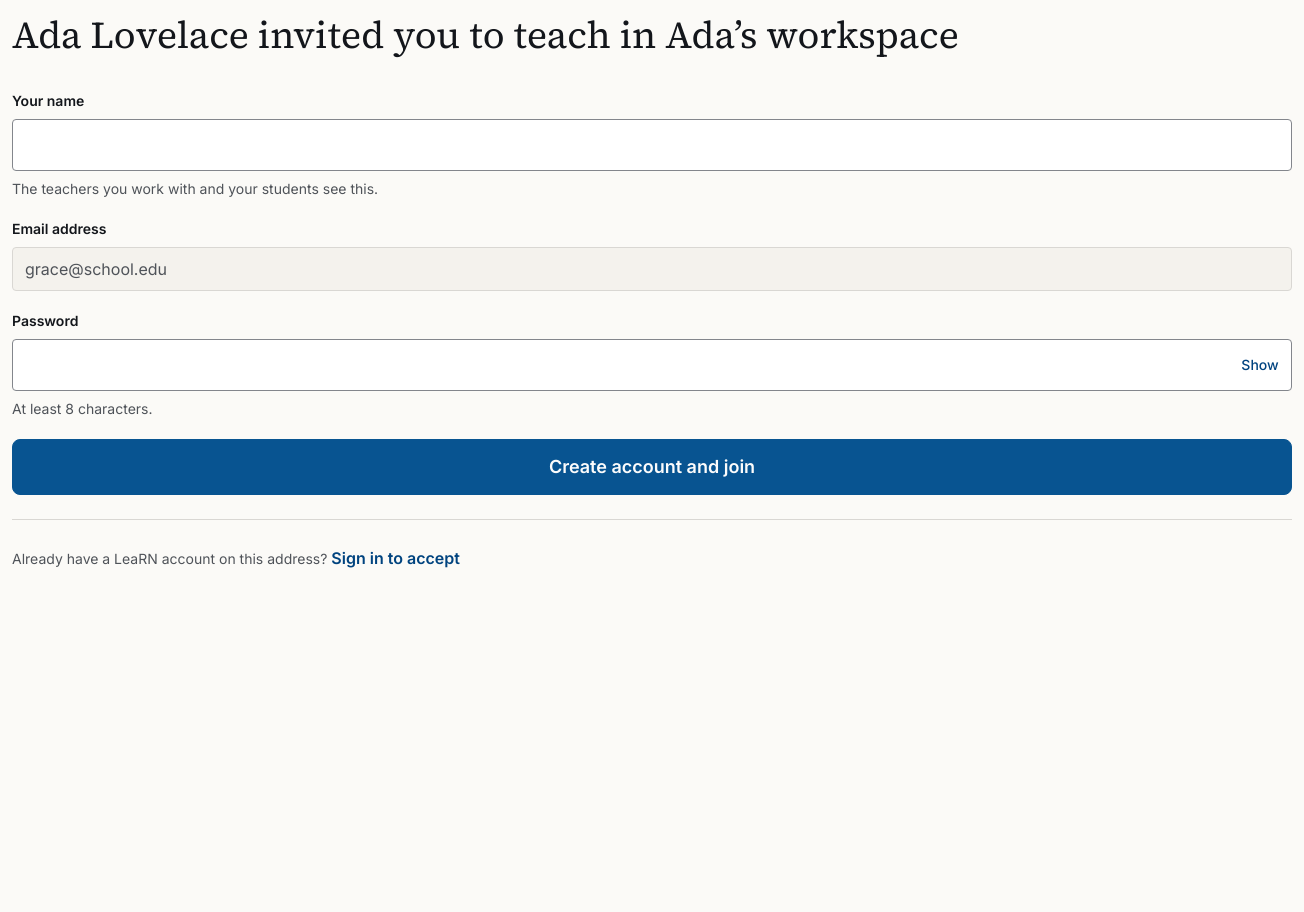
AcceptInviteForm › puts an error on the field it is about, and keeps the name typed
The width and height of the screenshot is (1304, 912).
Type "Grace Hopper" into the field labelled "Your name". click: (652, 145)
box: [12,119,1292,171]
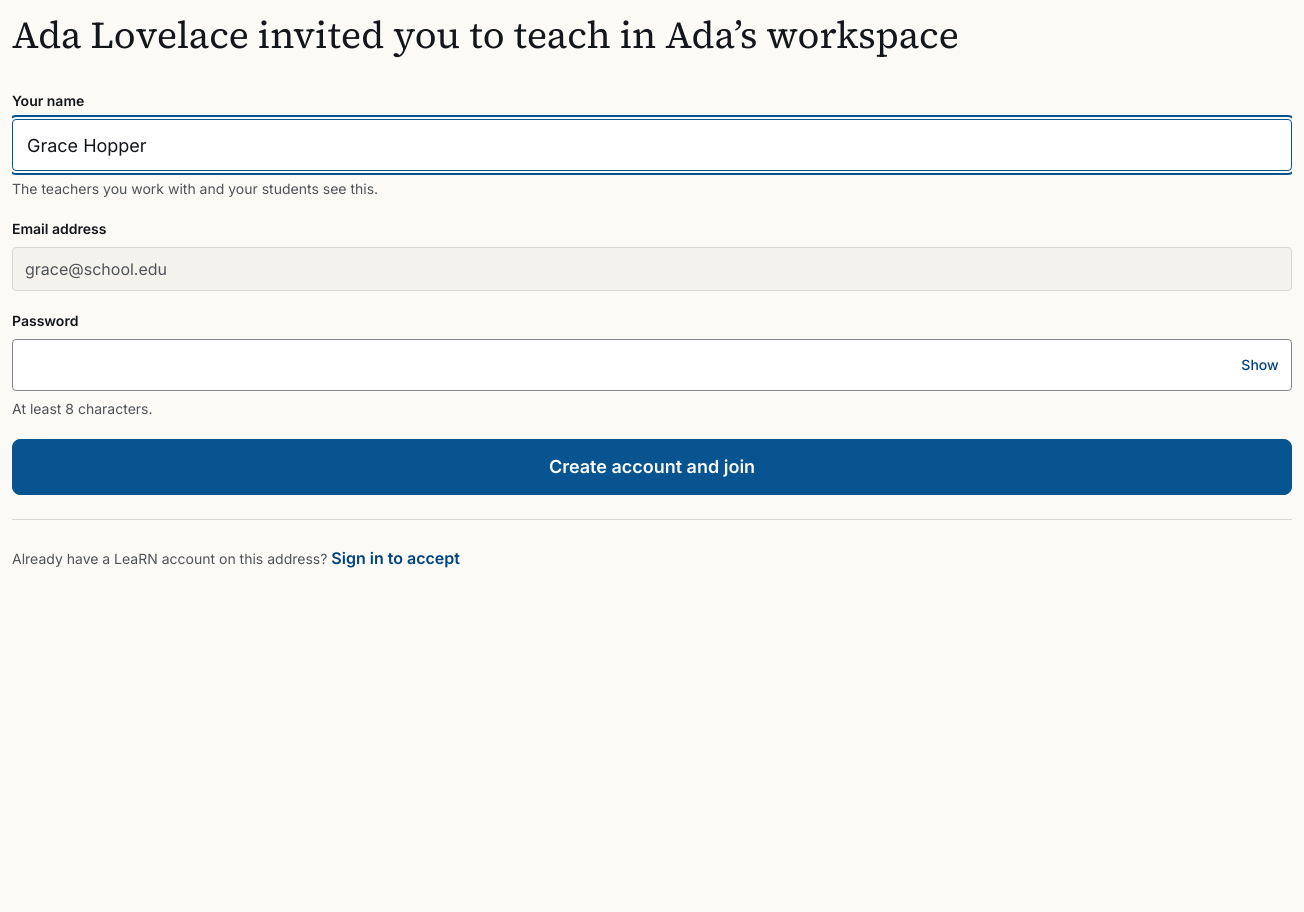
Type "correct horse battery staple" into the password field labelled "Password". click: (652, 365)
box: [12,339,1292,391]
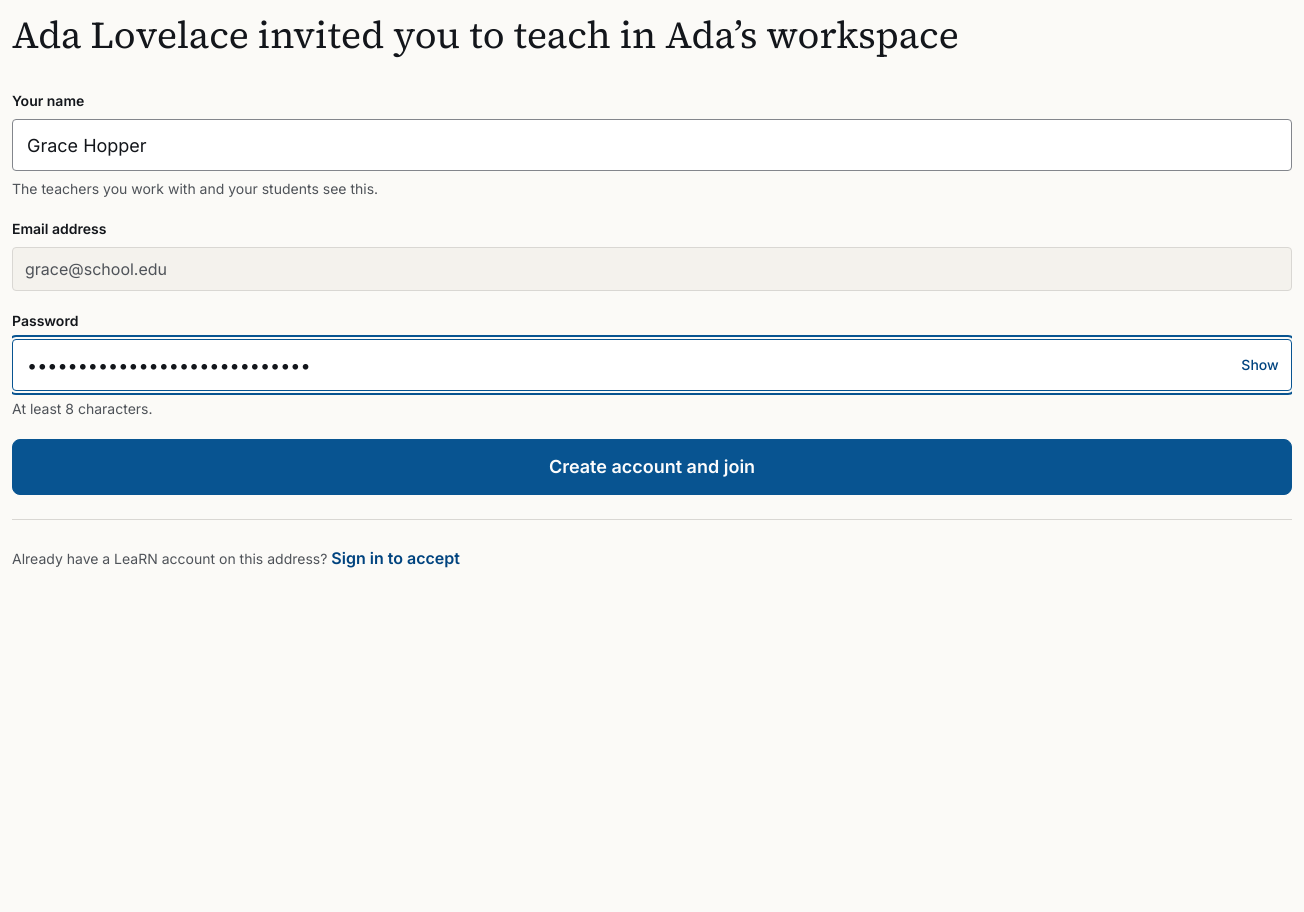
Click the button "Create account and join". click: (652, 467)
box: [12,439,1292,495]
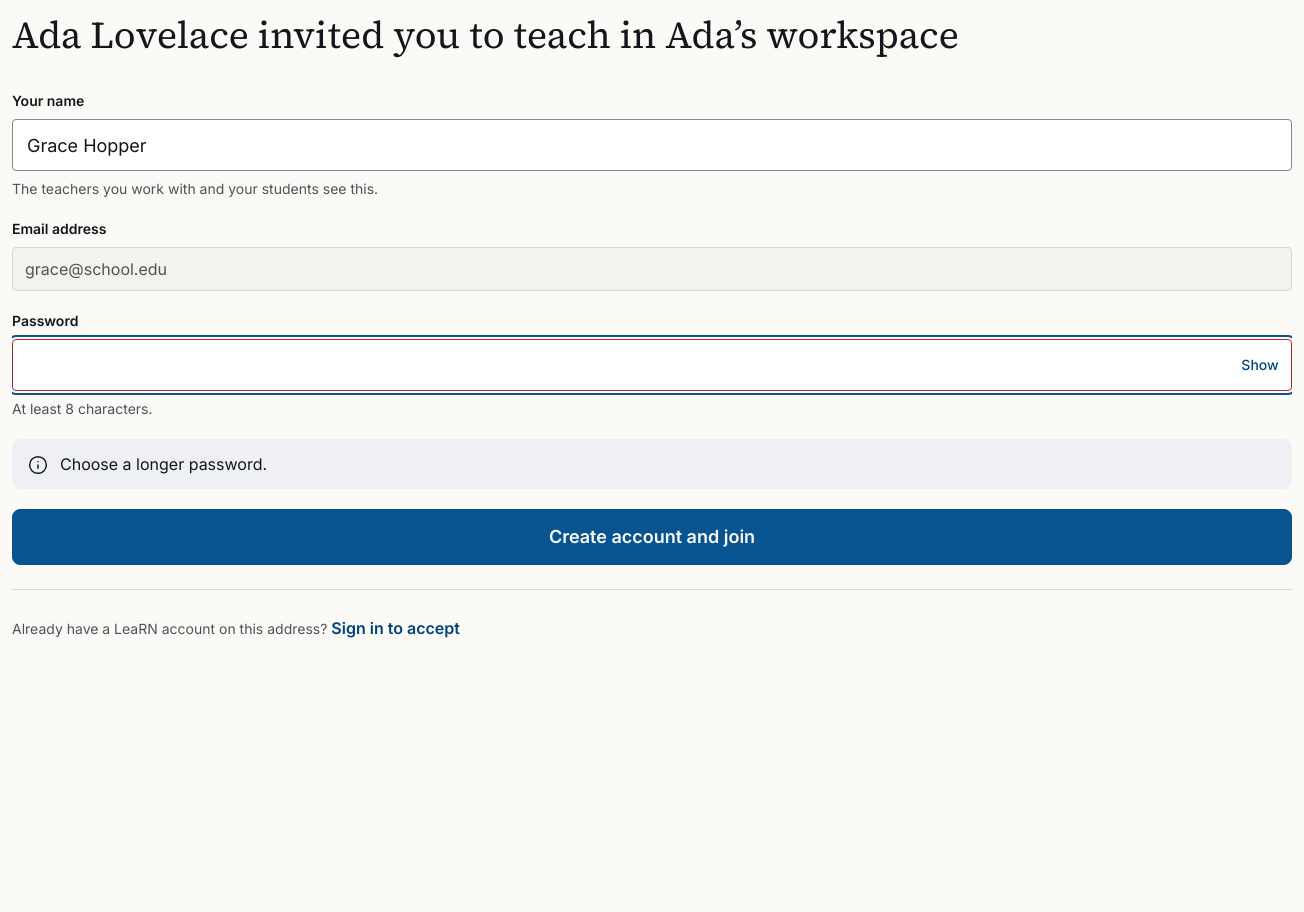
Now the message reads "Choose a longer password.", box [60,454,267,474]
